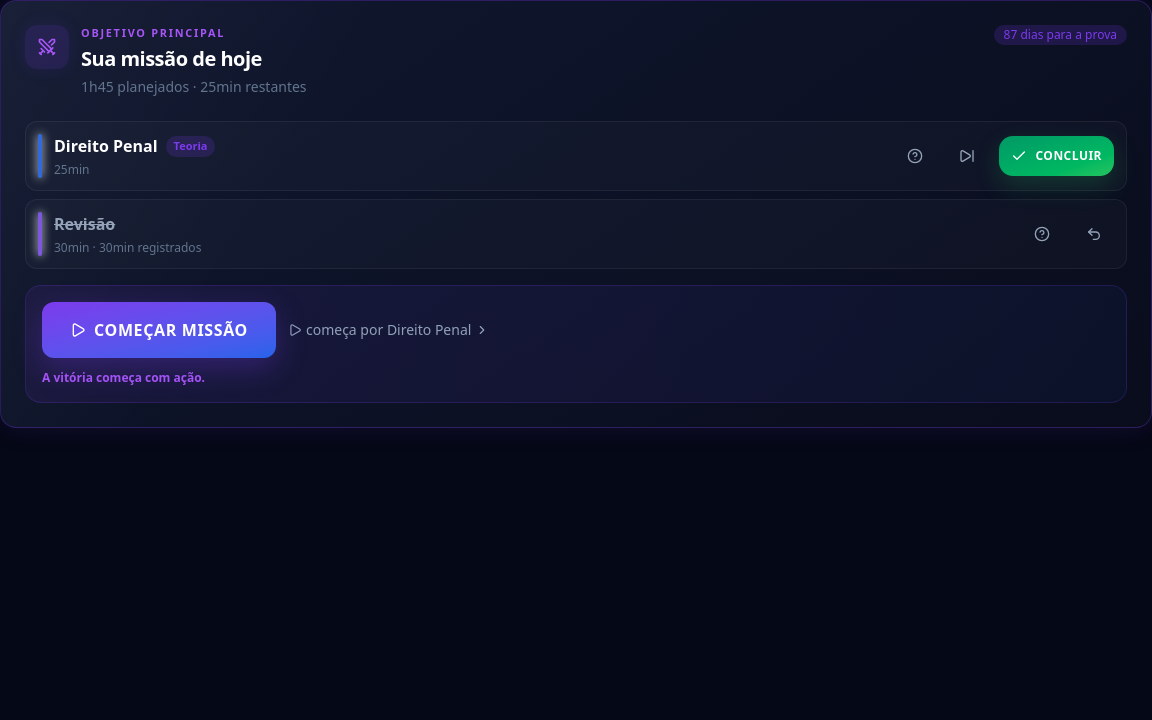
MissionPanel › explica por que a tarefa está na agenda
The image size is (1152, 720).
What coordinates should you click on to do the following:
click the button named "Por que esta tarefa: Direito Penal"
I would click on:
 (916, 156)
Its box is [896, 140, 936, 172].
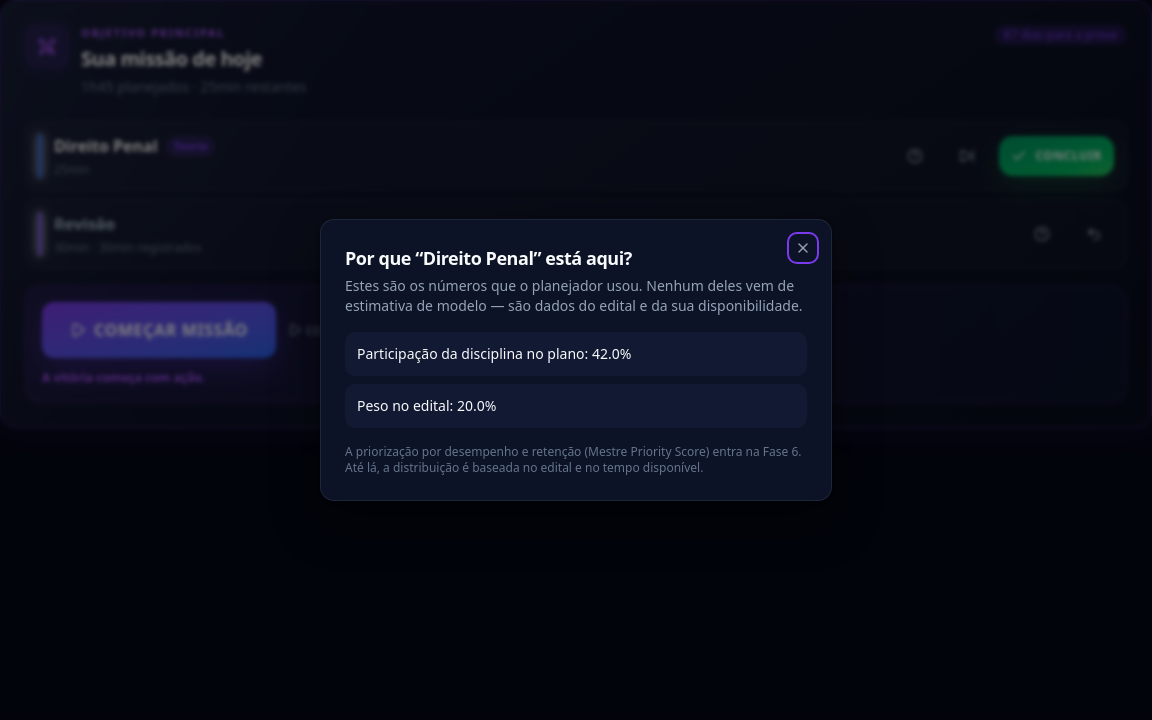
Now the list item "Participação da disciplina no plano: 42.0%" is shown, box [345, 332, 807, 376]
